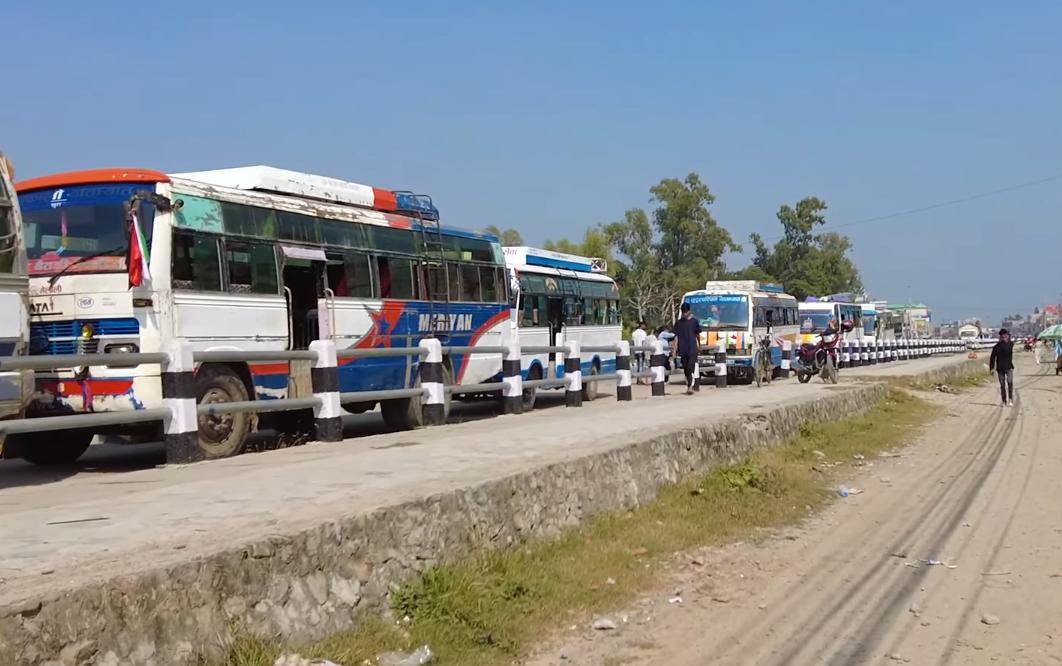bus: (0, 156, 506, 471), (675, 275, 803, 379)
